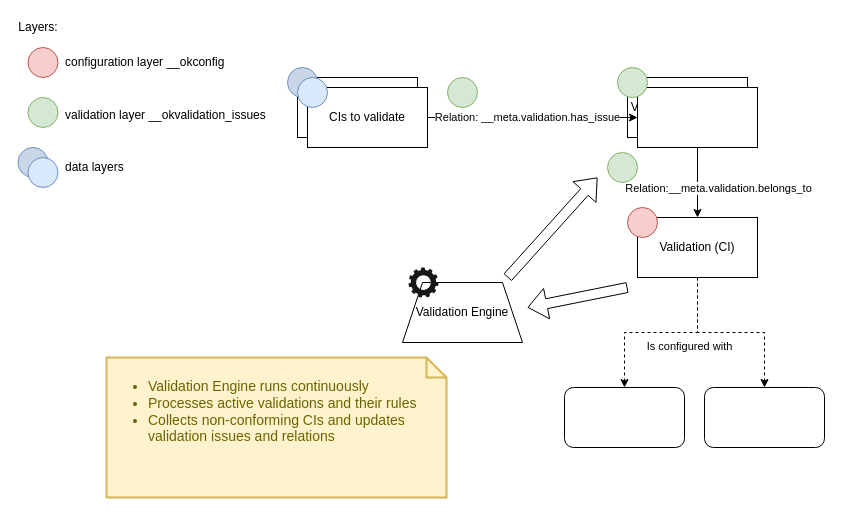
The diagram is 842 pixels wide and 515 high, and some of its shapes have lost their labels. The shapes that lost their labels are listed below. From the top down, each one's centre as x and y in pixels, then its label:
At pixel 697 117: "Validation Issue (CI)".
At pixel 624 417: "Validation Rule".
At pixel 764 417: "Validation Rule Config".
